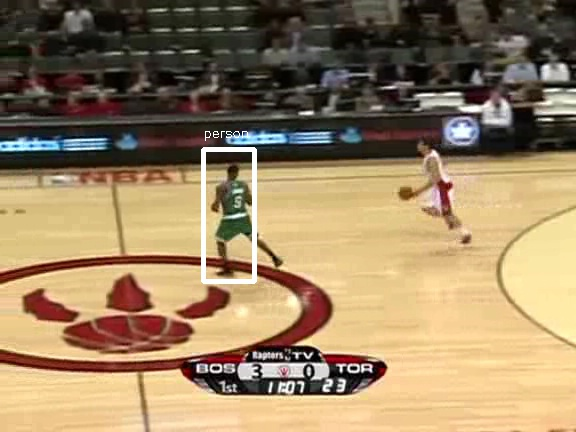person: (220, 169, 254, 250), (219, 169, 253, 250), (221, 169, 255, 250), (220, 168, 254, 249), (220, 170, 254, 251)
target_negative: (211, 284, 532, 349), (345, 114, 462, 254), (286, 369, 476, 420), (419, 214, 464, 359), (437, 236, 474, 263), (509, 412, 529, 421)
